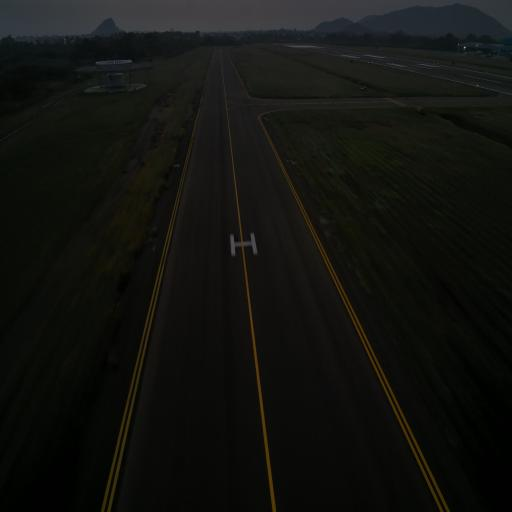on: (319, 214, 325, 223), (153, 224, 158, 234)
